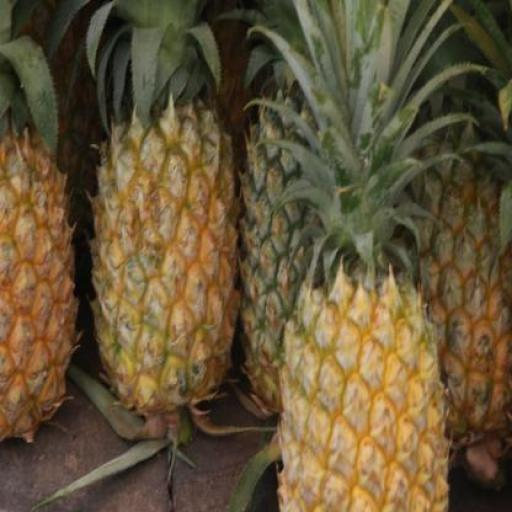------------------------------: (89, 114, 233, 421)
Pineapple - v8 v1: (272, 256, 438, 512), (0, 151, 69, 441)
